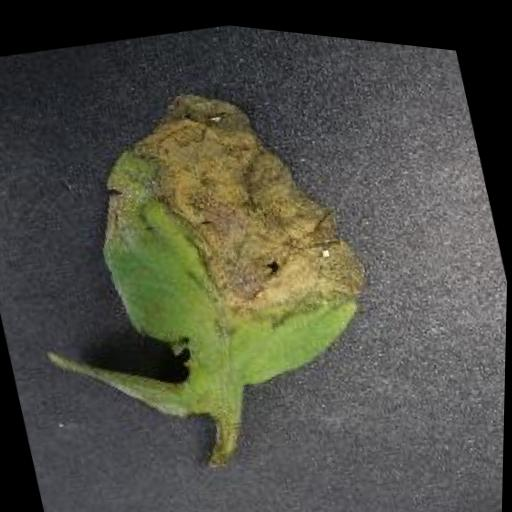Late Blight: (65, 41, 391, 420)
